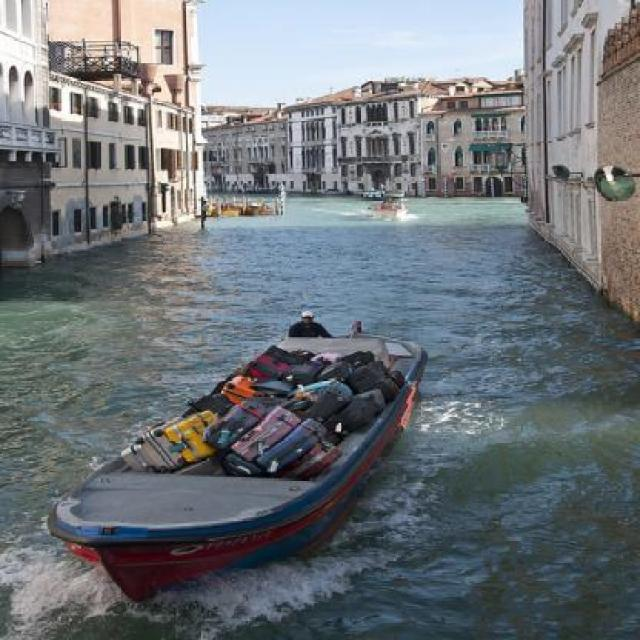ship: (52, 328, 430, 606), (366, 197, 408, 218), (358, 186, 404, 197)
